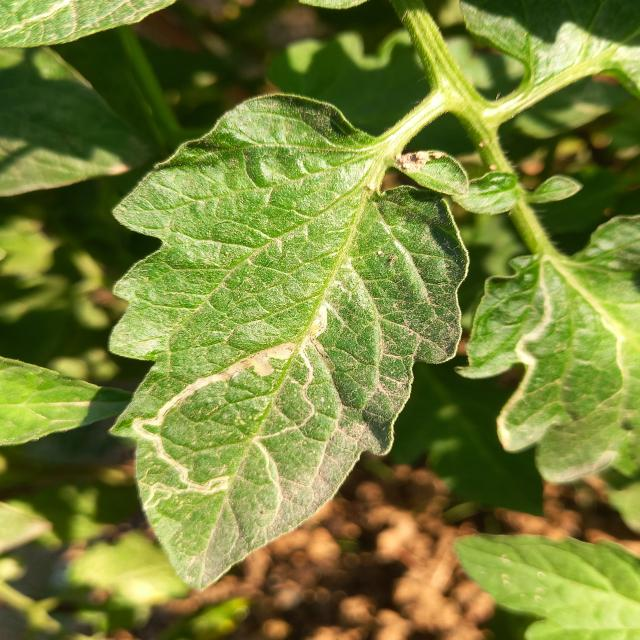Tuta absoluta: (129, 325, 340, 514), (292, 301, 331, 407), (302, 407, 316, 426)
